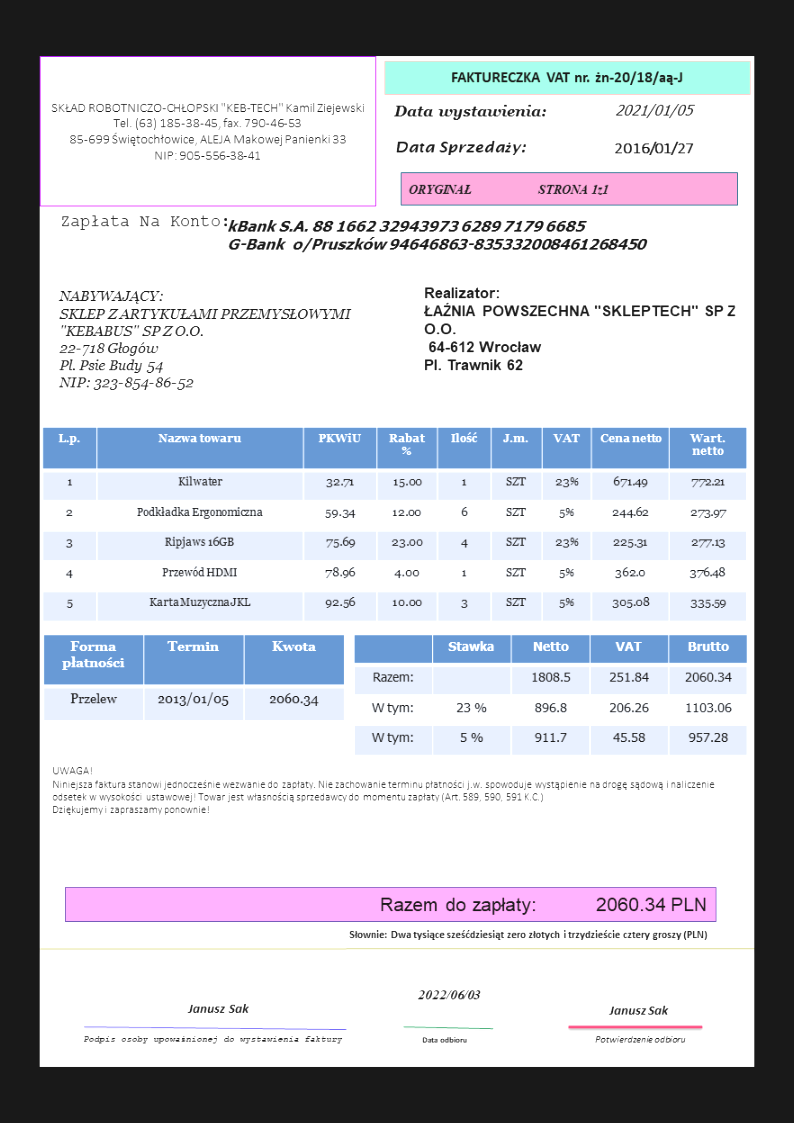Table: (41, 424, 748, 624), (353, 633, 750, 758), (42, 632, 344, 721)
TextBox: (51, 764, 717, 817), (57, 287, 355, 395), (420, 286, 741, 377), (49, 98, 368, 168), (227, 219, 651, 253), (378, 894, 708, 916), (347, 927, 711, 943), (447, 66, 685, 88), (392, 101, 546, 125), (407, 181, 612, 199), (79, 1034, 344, 1046), (59, 213, 230, 231), (392, 138, 528, 159), (614, 100, 697, 122), (612, 138, 695, 157), (184, 999, 251, 1018), (592, 1034, 689, 1045), (415, 988, 483, 1002), (606, 1004, 671, 1017), (419, 1034, 471, 1046)
